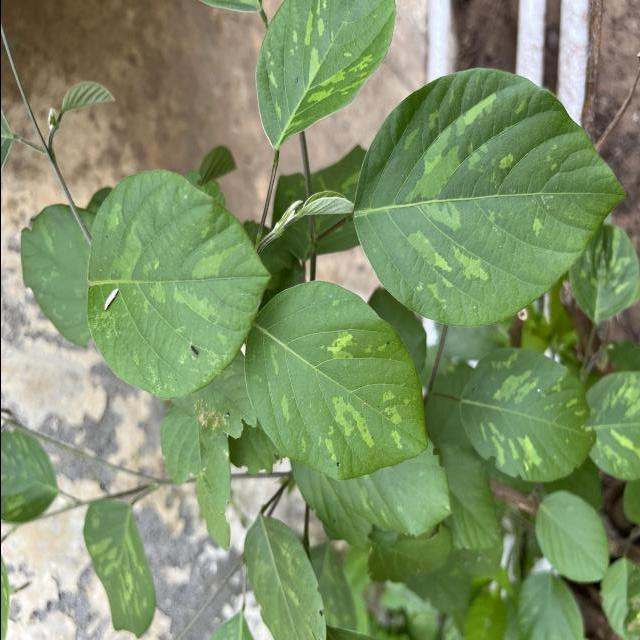Desmodium gangeticum: (350, 64, 629, 330), (81, 166, 273, 405), (241, 278, 430, 485), (251, 0, 397, 153)
